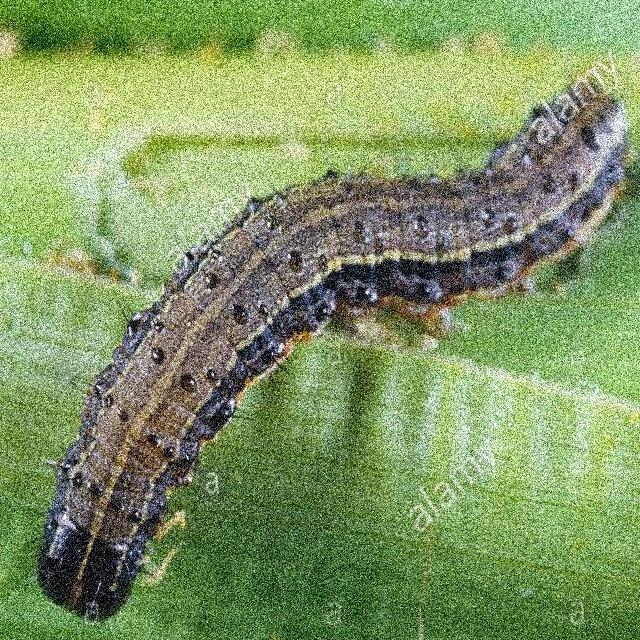Plaga: (43, 66, 626, 616)
